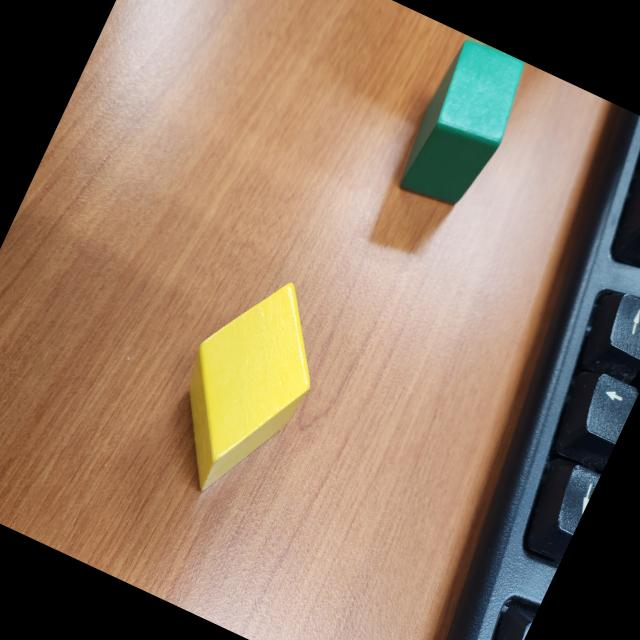green: (390, 34, 536, 220)
yellow: (141, 257, 349, 520)
